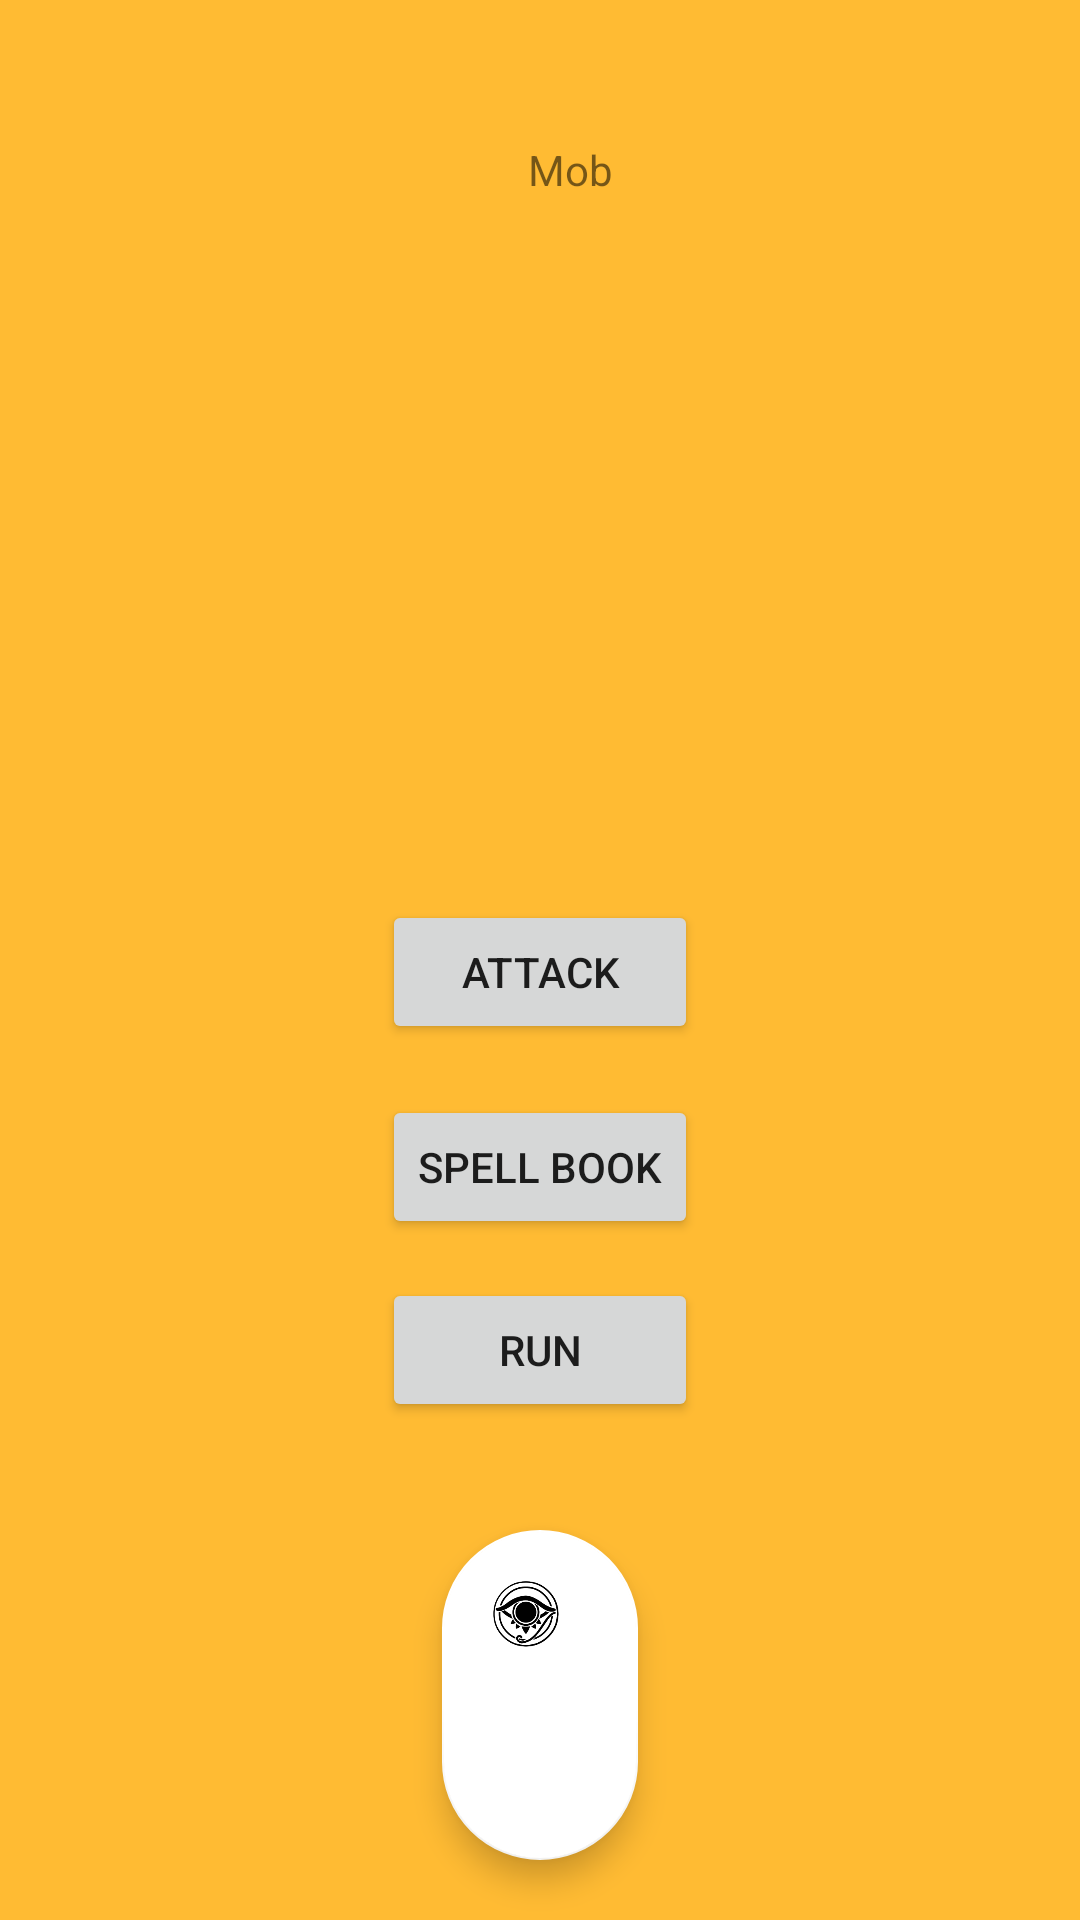

Named icons in this screenshot (1080x1920) and their bounding boxes, [x1,y1,x2,y2]:
eye: [442,1530,638,1860]
